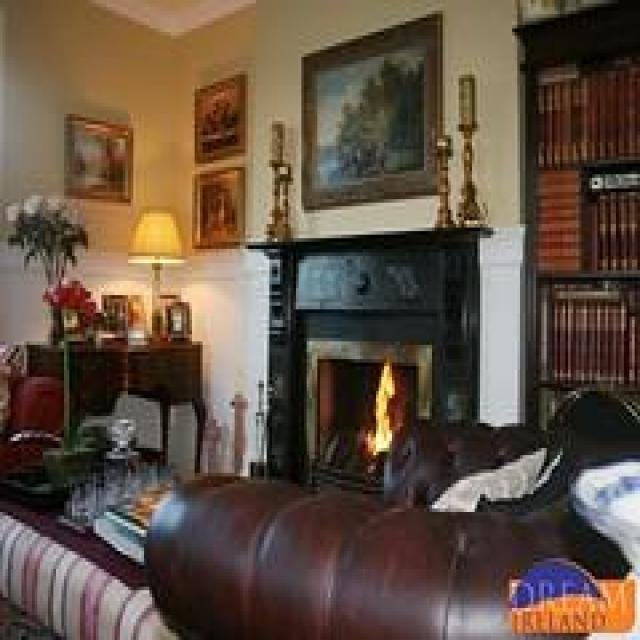fire: (358, 361, 398, 453)
